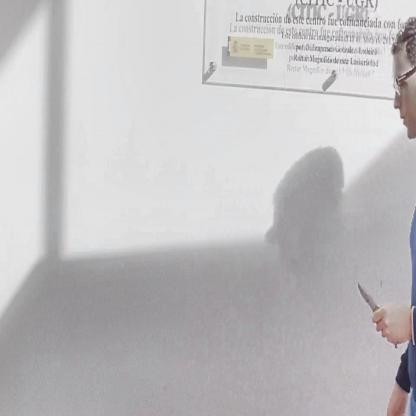knife: (352, 275, 400, 350)
